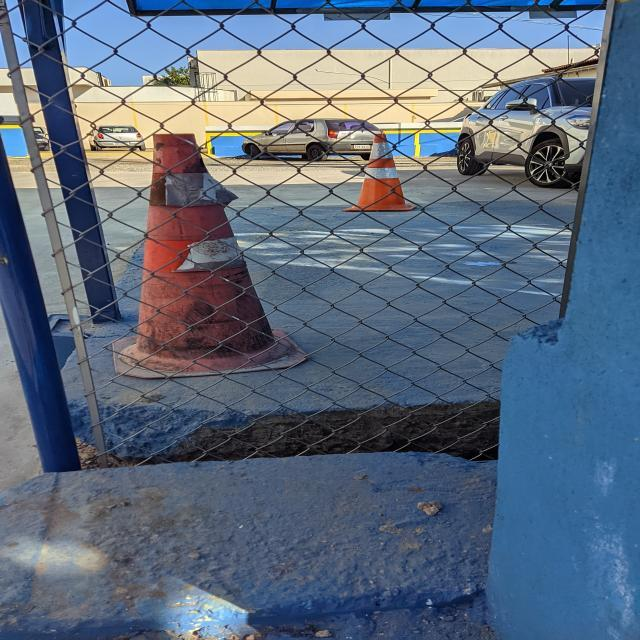Cone: (102, 128, 312, 382), (339, 130, 418, 214)
